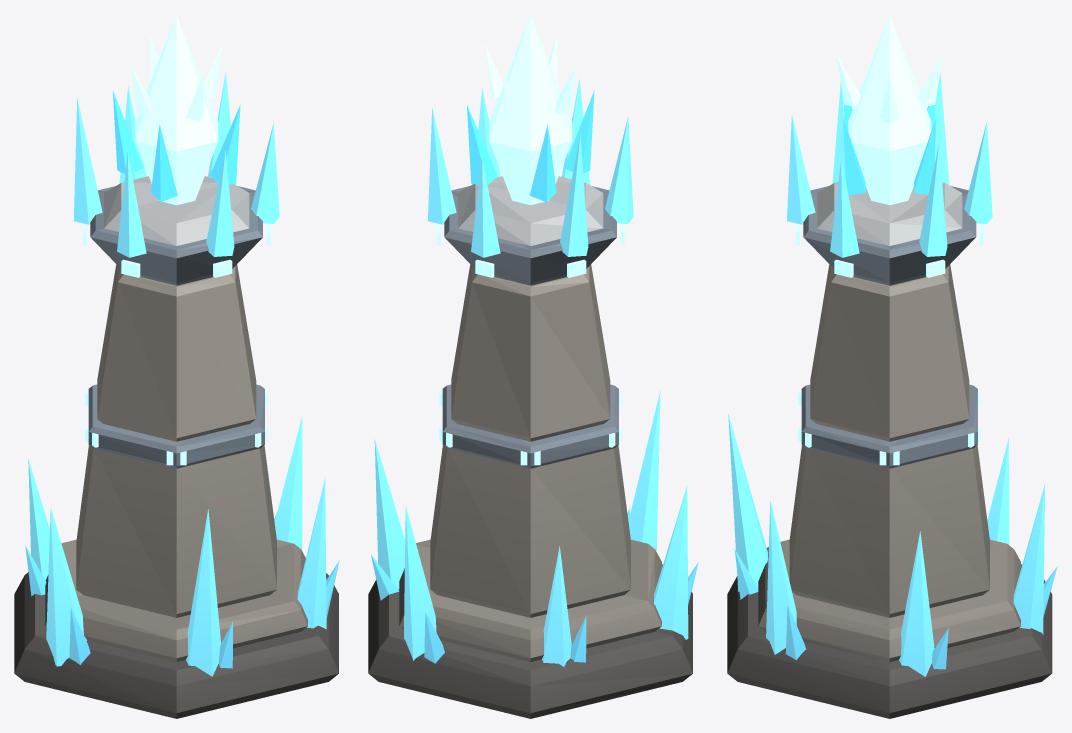
The model's file is rime_spire.glb.
The picture shows the model from 3 angles, left to right: view 1: azimuth 30°, elevation 25°; view 2: azimuth 150°, elevation 25°; view 3: azimuth 270°, elevation 25°; orthographic projection.
Visible parts, largest first — view 1: rime_spire; view 2: rime_spire; view 3: rime_spire.
Boxes of the visible parts, x1,y1,x2,y2 form: rime_spire: (14,14,339,718); rime_spire: (368,14,698,718); rime_spire: (727,14,1057,718).
Bounding box in the file's own units: 0.94 × 1.74 × 0.8277.
